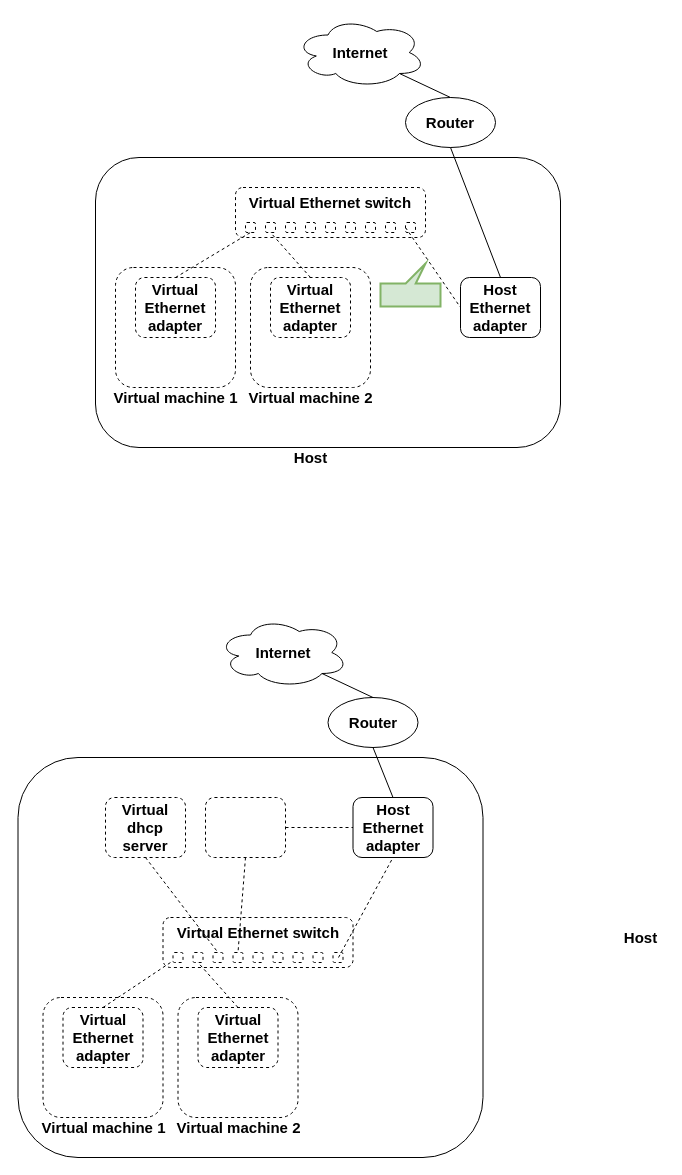
The diagram is 682 pixels wide and 1175 high, and some of its shapes have lost their labels. The shapes that lost their labels are listed below. From the top down, each one's centre as x and y in pixels, then its label:
(410,284): Bridge
(245,827): Virtual NAT device
